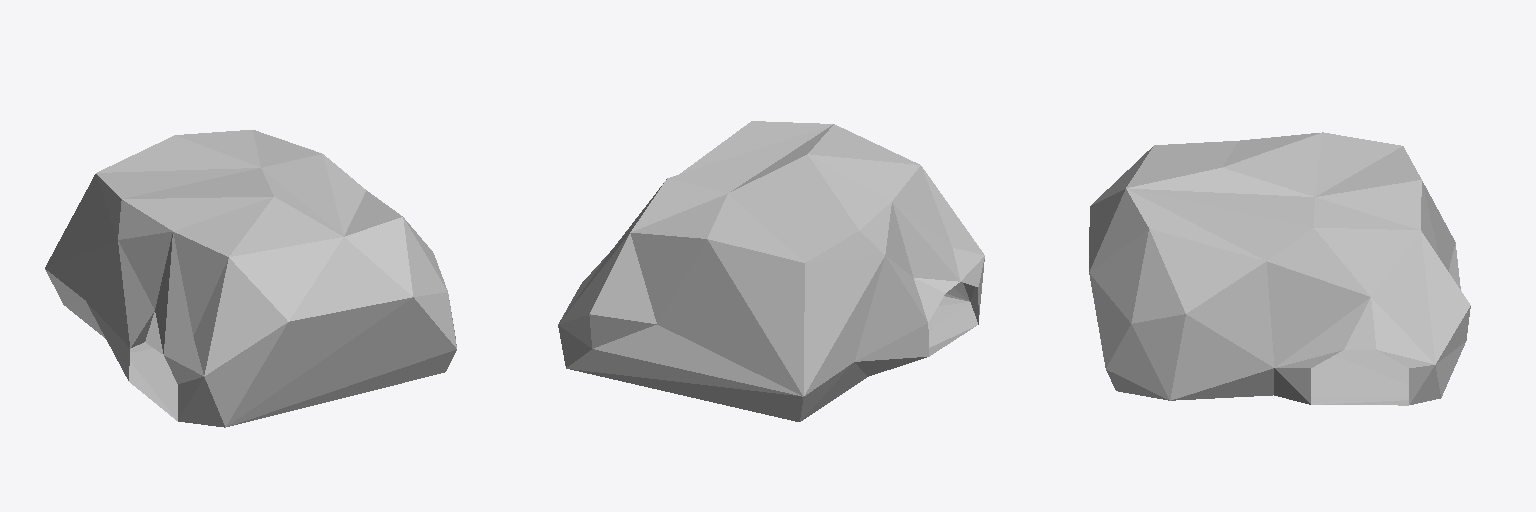
The model's file is Mesh_CavePack_Large_RoomSquare_lod2.obj.
3 renders of one model, left to right at view 1: azimuth 30°, elevation 25°; view 2: azimuth 150°, elevation 25°; view 3: azimuth 270°, elevation 25°, orthographic.
Visible parts, largest first — view 1: Plane.001; view 2: Plane.001; view 3: Plane.001.
Part boxes in pixels (x1,y1,x2,y2): Plane.001: (45,130,456,427); Plane.001: (558,121,984,421); Plane.001: (1089,132,1470,405).
Size of the model in its own units: 32.65 by 17.97 by 37.38.